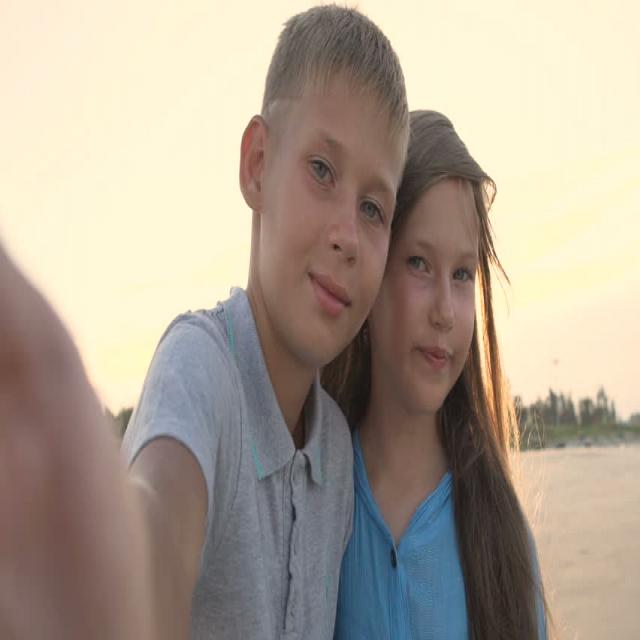earlobe: (240, 114, 268, 212)
